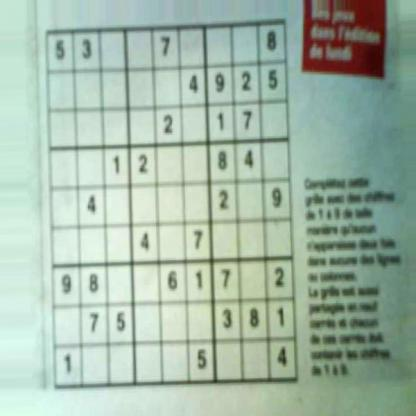sudoku: (43, 18, 302, 394)
